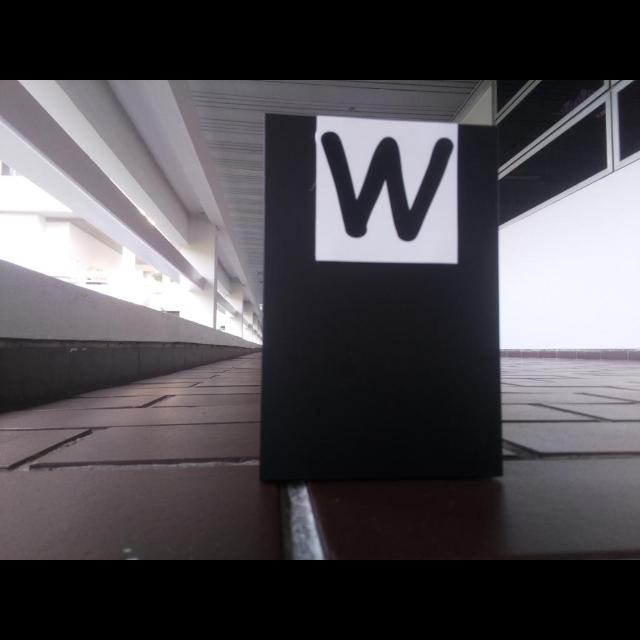W: (318, 130, 457, 244)
